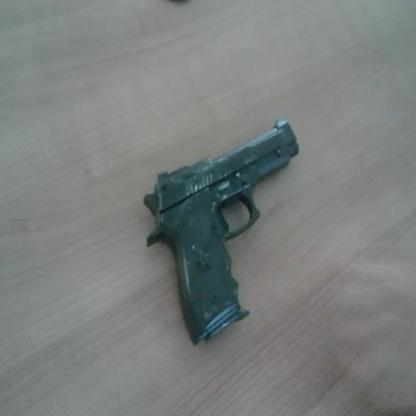handgun: (128, 108, 358, 352)
